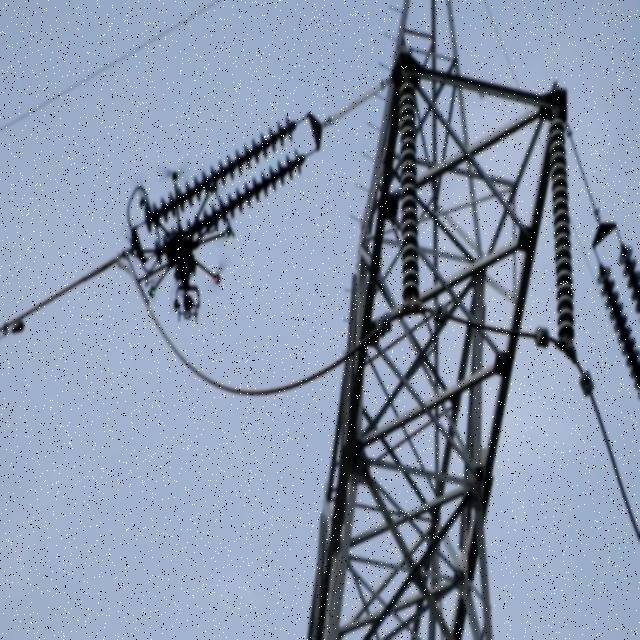UAV: (127, 172, 235, 322)
